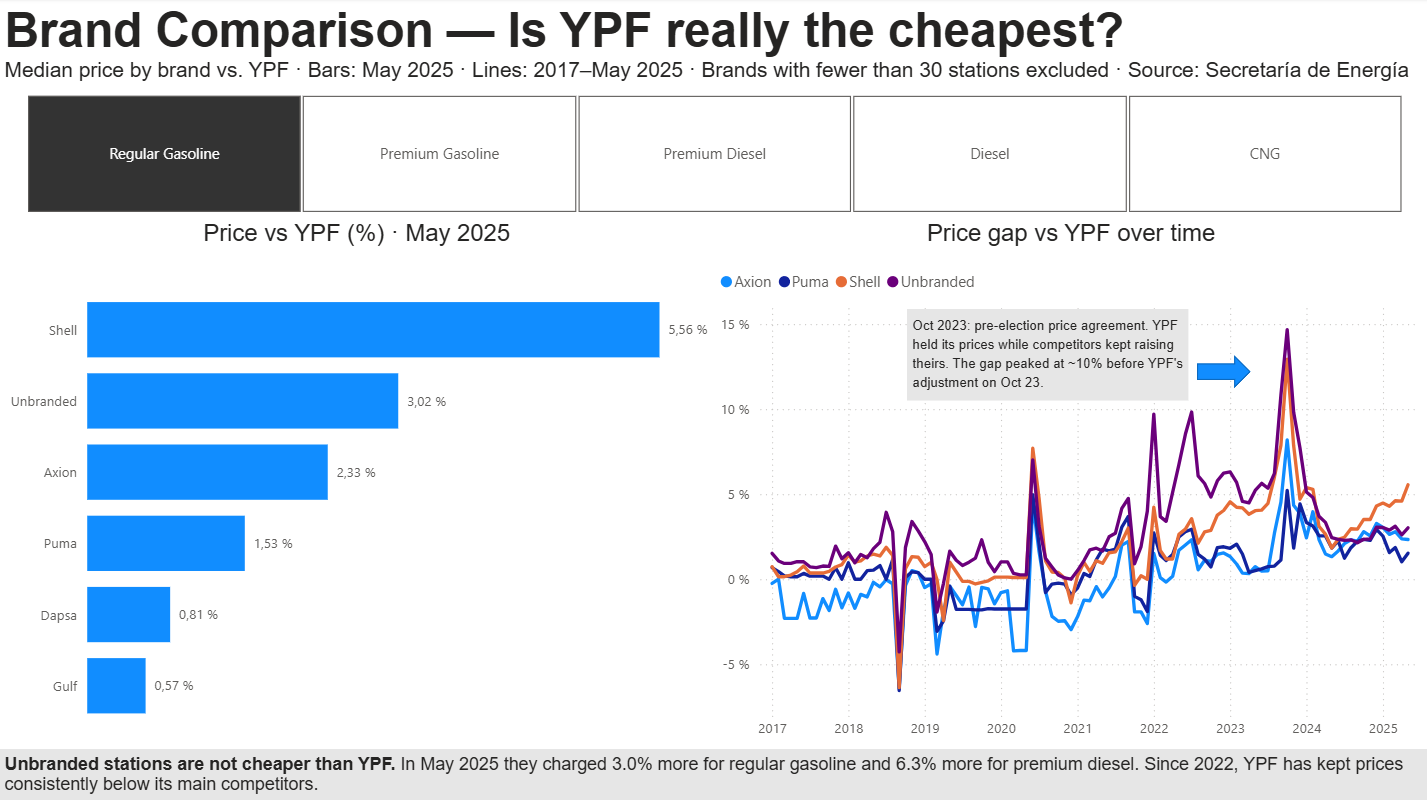

The dashboard page shown, as its layout file describes it:
{"tool":"powerbi","page":{"name":"Brands","canvas":[1280,720],"ordinal":1},"visuals":[{"type":"slicer","fields":{"Values":["monthly_prices.product"]},"box":[0,80.9,1280,117.5],"z":0},{"type":"clusteredBarChart","title":"Price vs YPF (%) · May 2025","fields":{"Category":["stations.brand"],"Y":["monthly_prices.Price vs YPF %"]},"box":[0,198.4,640.5,473.9],"z":1000},{"type":"lineChart","title":"Price gap vs YPF over time","fields":{"Category":["monthly_prices.month"],"Series":["stations.brand"],"Y":["monthly_prices.Price vs YPF %"]},"box":[640.5,198.4,639.5,473.9],"z":2000},{"type":"textbox","box":[0,672.3,1280,48.2],"z":3000},{"type":"textbox","box":[0,0,1280,80.9],"z":4000},{"type":"textbox","box":[812.9,278.3,252.3,81.9],"z":5000},{"type":"shape","box":[1072.9,319.8,48.2,29.9],"z":6000}]}

Visuals, with their boxes in screenshot pixels (x1, y1, x2, y2), scaled from the page's 1280x720 canvas onto the 1427x800 screenshot:
slicer - monthly_prices.product: 0, 90, 1426, 220
"Price vs YPF (%) · May 2025" clusteredBarChart: 0, 220, 714, 747
"Price gap vs YPF over time" lineChart: 714, 220, 1426, 747
textbox: 0, 747, 1426, 799
textbox: 0, 0, 1426, 90
textbox: 906, 309, 1188, 400
shape: 1196, 355, 1250, 389
